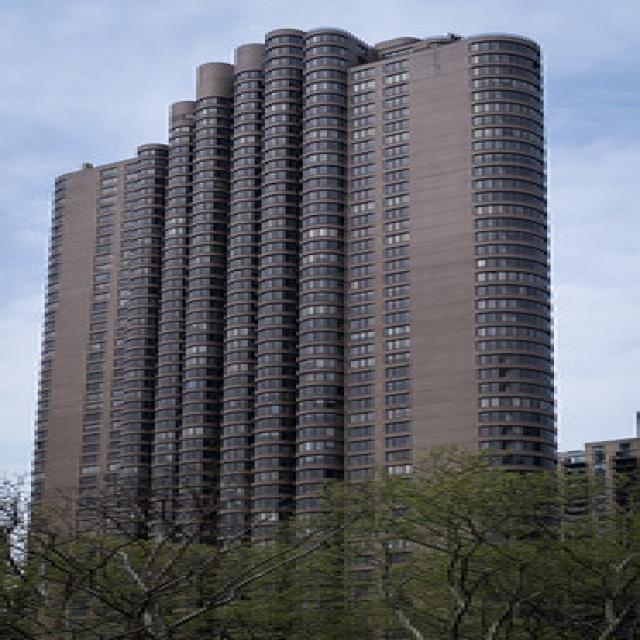building: (14, 23, 568, 633)
